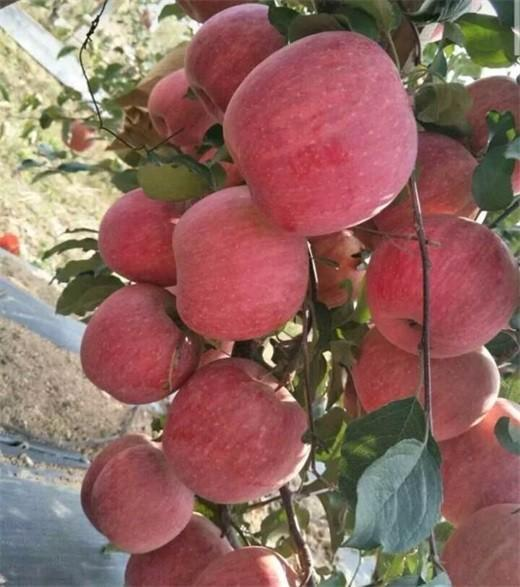apple: (225, 31, 422, 236), (171, 183, 313, 343), (162, 356, 312, 503), (368, 212, 516, 359), (351, 325, 499, 444), (78, 284, 199, 407), (184, 3, 297, 128), (89, 444, 195, 556), (96, 185, 193, 287), (145, 67, 214, 150)
